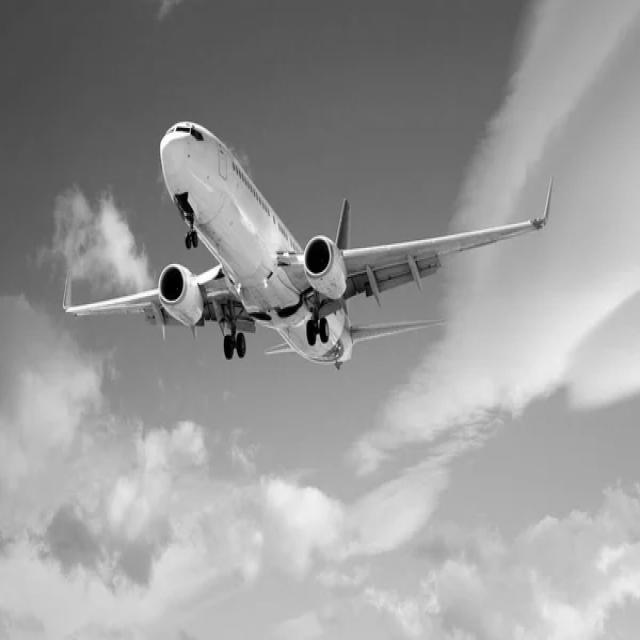Aircraft: (65, 114, 560, 360)
